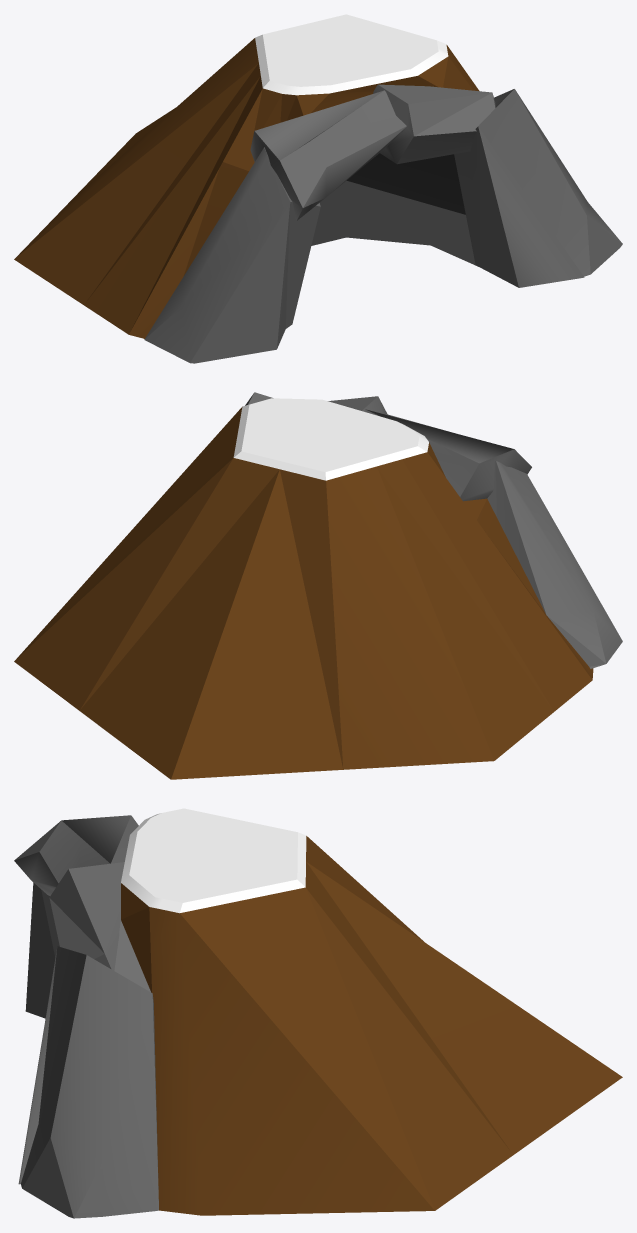
File: Terrain_Cave_Snow_01.fbx
The picture shows the model from 3 angles, top to bottom: view 1: azimuth 30°, elevation 25°; view 2: azimuth 150°, elevation 25°; view 3: azimuth 270°, elevation 25°; orthographic projection. The views are drawn at different scales.
Visible parts, largest first — view 1: Terrain_Cave_Snow_01; view 2: Terrain_Cave_Snow_01; view 3: Terrain_Cave_Snow_01.
Boxes of the visible parts, x1,y1,x2,y2 form: Terrain_Cave_Snow_01: (14,14,622,363); Terrain_Cave_Snow_01: (14,392,622,779); Terrain_Cave_Snow_01: (14,808,622,1218).
Size of the model in its own units: 582 by 241 by 559.
